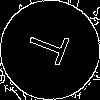T: (25, 25, 78, 70)
